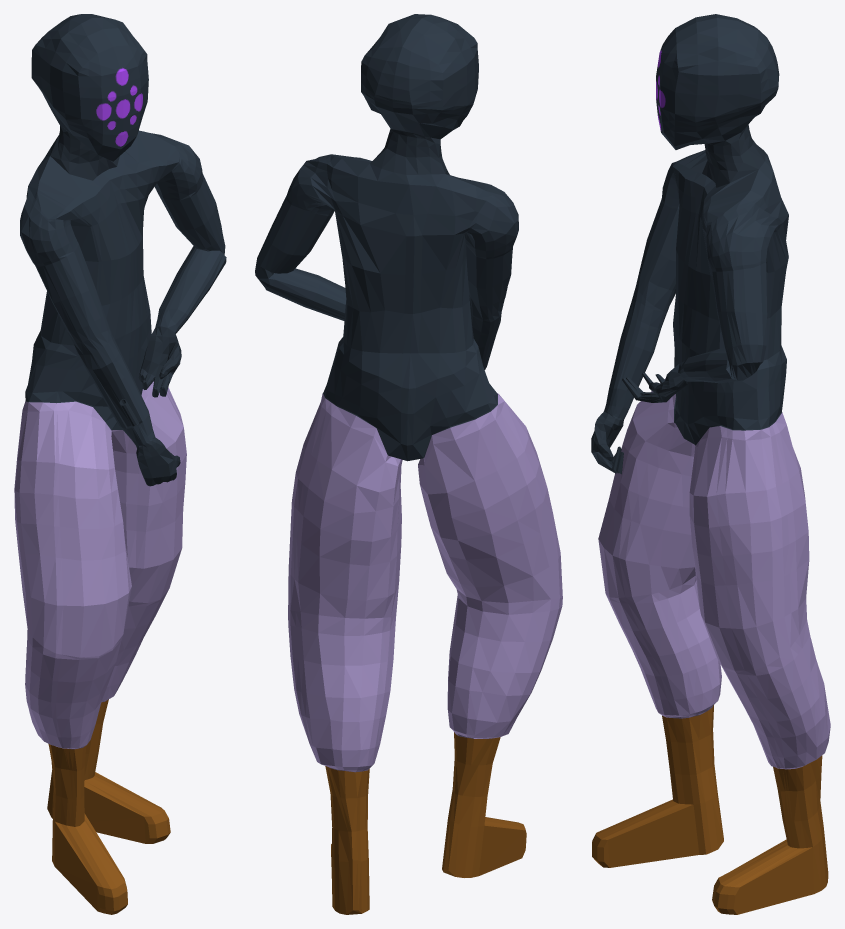
File: Oracle_WB_000026.obj
3 renders of one model, left to right at view 1: azimuth 30°, elevation 25°; view 2: azimuth 150°, elevation 25°; view 3: azimuth 270°, elevation 25°, orthographic. The views are drawn at different scales.
Parts seen in each view (by area): view 1: Cube; view 2: Cube; view 3: Cube.
Part boxes in pixels (bbox=[...]): Cube: bbox=[14, 14, 226, 914]; Cube: bbox=[255, 14, 562, 914]; Cube: bbox=[591, 14, 830, 914].
Bounding box in the file's own units: 1.17 × 3.92 × 0.9872.
